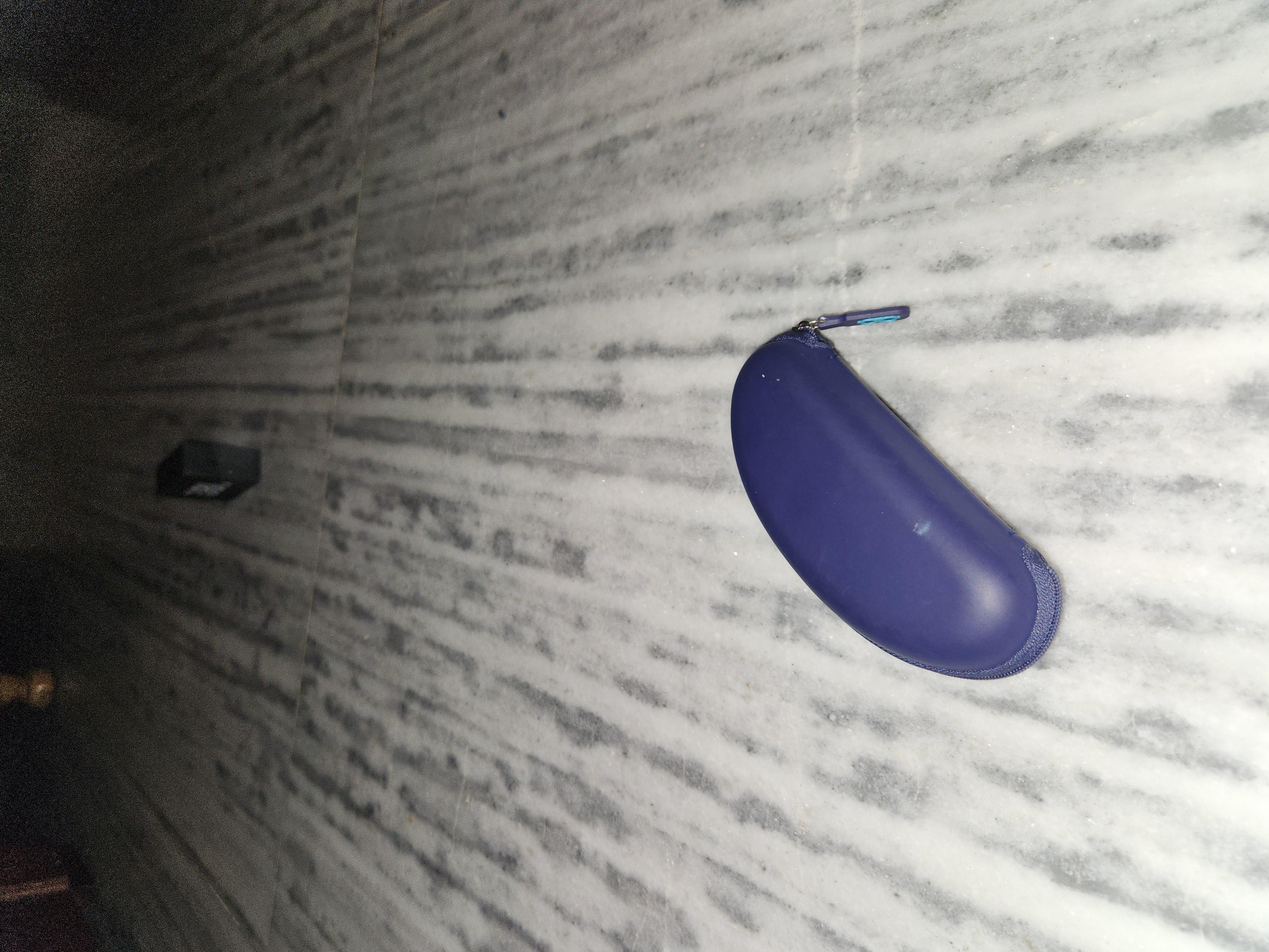case: (354, 546, 866, 799)
speaker: (595, 116, 686, 197)
